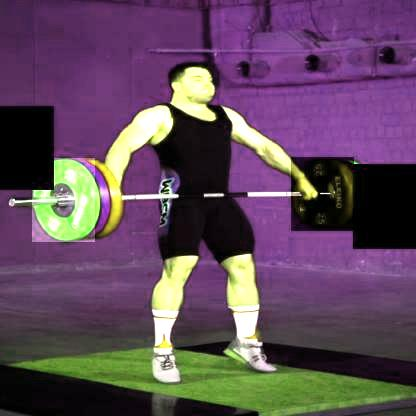barbell: (32, 158, 96, 243), (291, 157, 354, 231)
